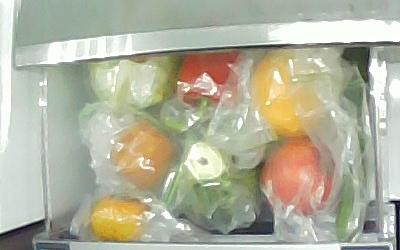apple_vinyl: (260, 136, 335, 216)
broccoli_vinyl: (163, 141, 258, 228)
cucumber_vinyl: (335, 46, 370, 244)
grapefruit_vinyl: (250, 48, 327, 135)
lettuce_vinyl: (87, 54, 177, 110)
paprika_vinyl: (175, 50, 245, 123)
peach_vinyl: (110, 118, 174, 189)
persimmon_vinyl: (90, 194, 153, 242)
